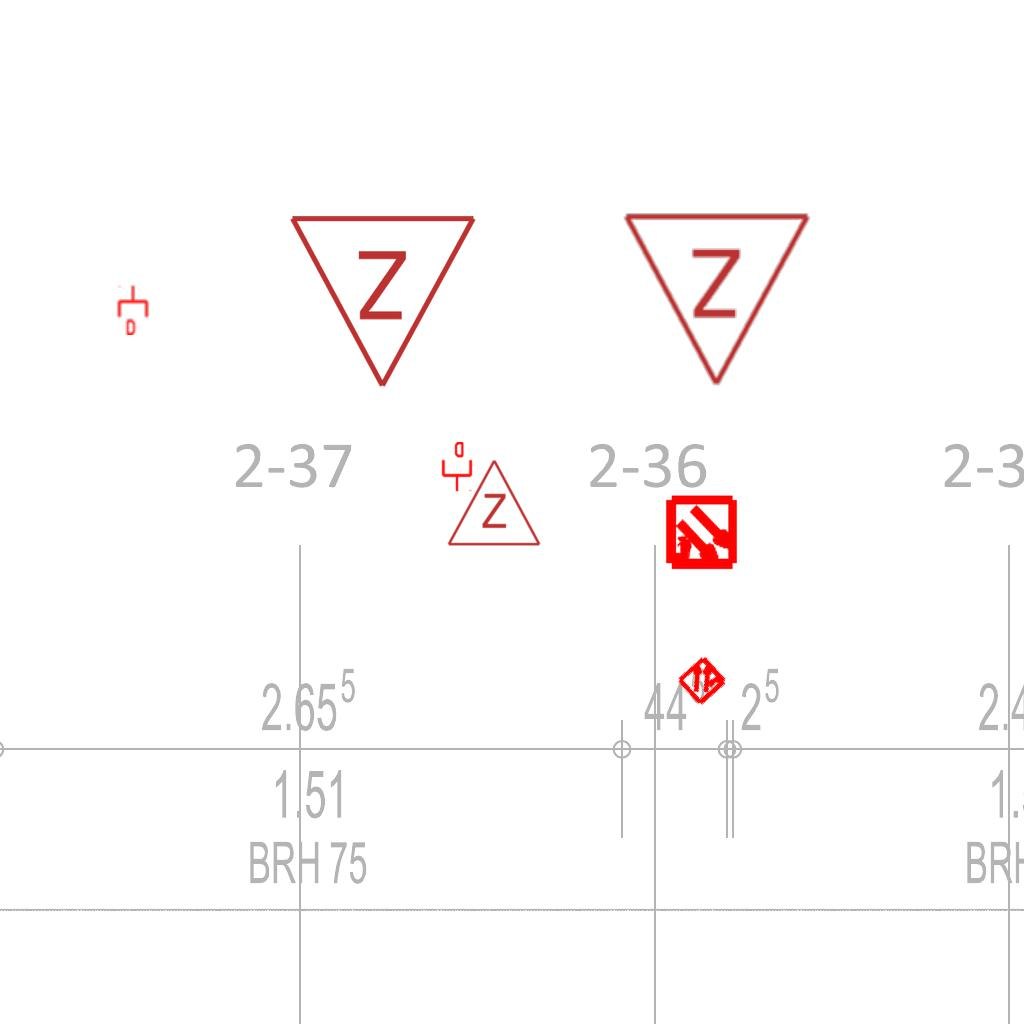Datenanschluss_einfach: (116, 285, 150, 335), (440, 442, 474, 492)
OT_Multisensormelder_(Kombination_RMO_WMD): (645, 478, 758, 591), (663, 640, 743, 720)
Zimmersignalleuchte: (287, 201, 483, 401), (621, 199, 817, 399), (444, 453, 542, 553)
